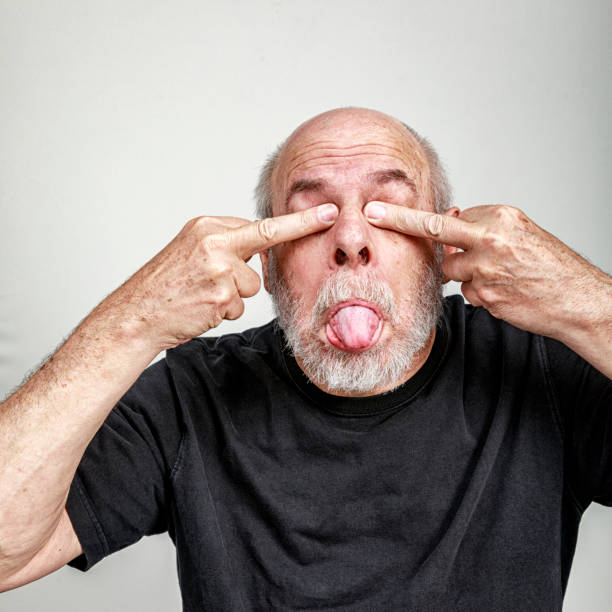insulting_gesture: (169, 198, 520, 357)
